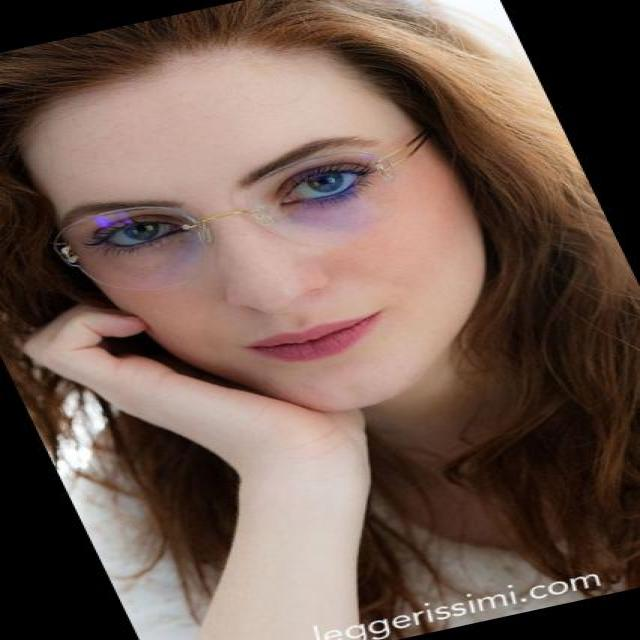glasses: (45, 137, 455, 306)
